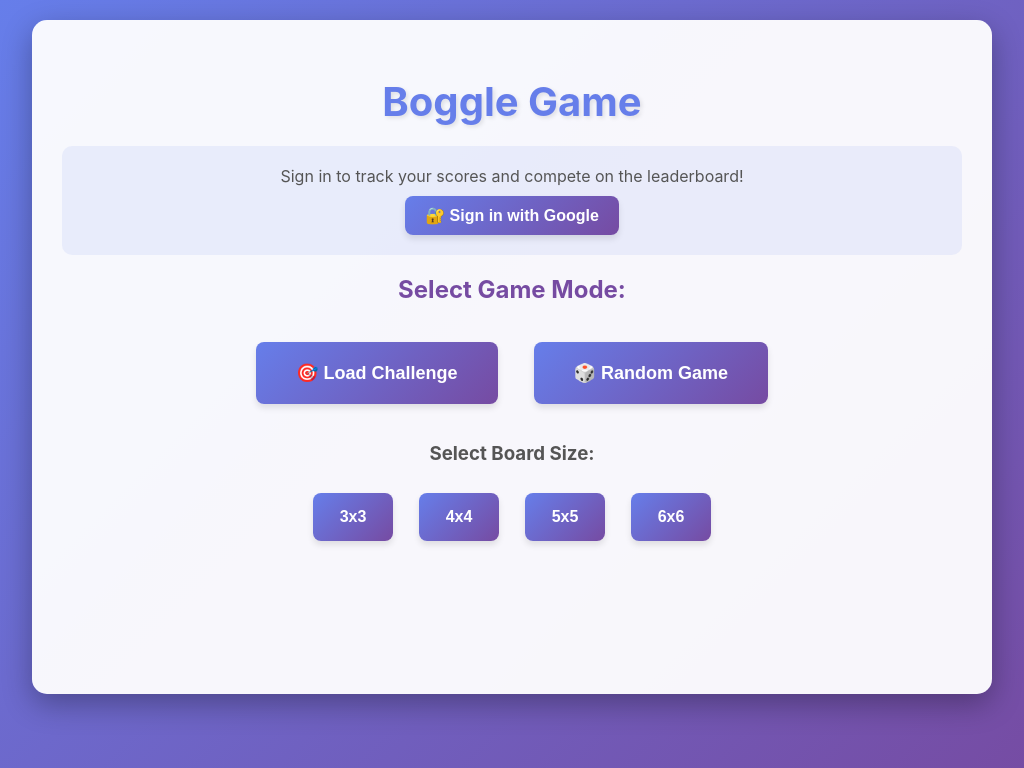
it: Boggle App › can click Load Challenge button
Click the button "🎯 Load Challenge". click: [377, 373]
box: [256,342,498,404]
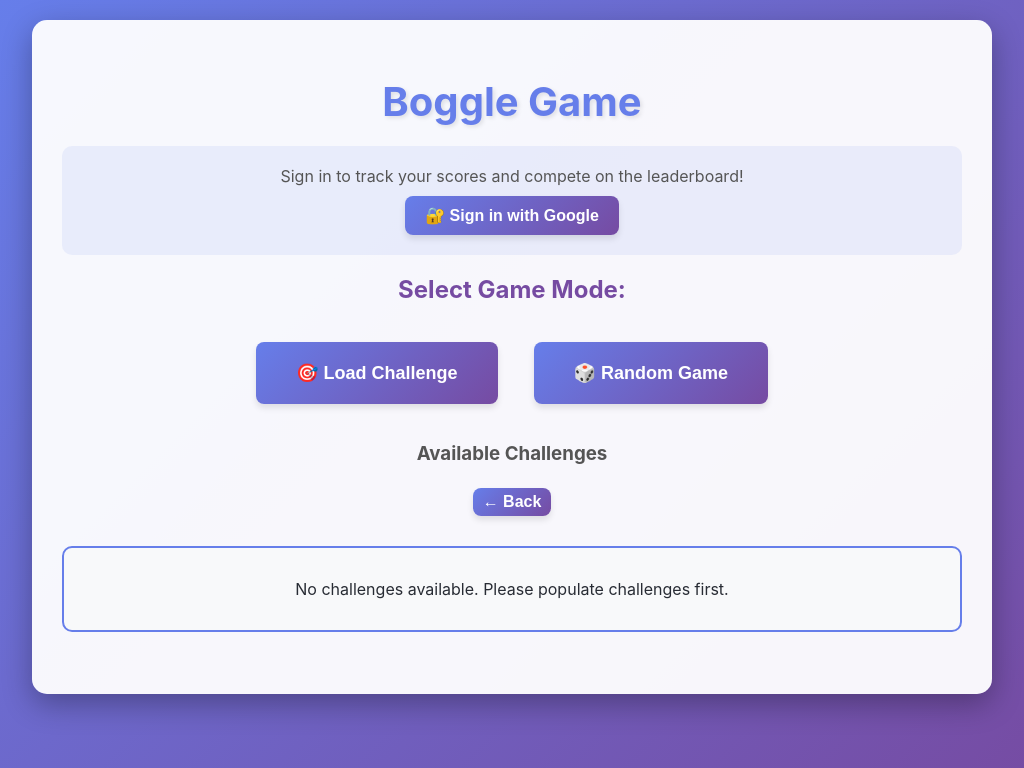
Now the heading "Available Challenges" is shown, box [417,442,607,465]
